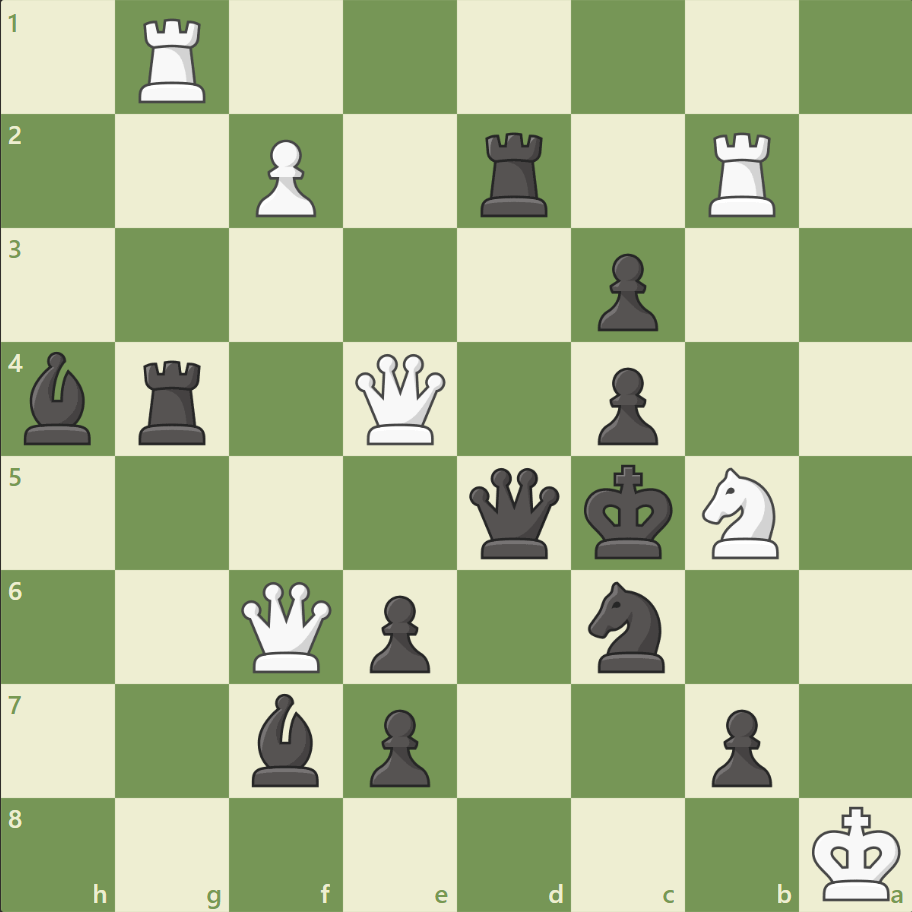K: (806, 798, 906, 906)
N: (692, 461, 789, 564)
P: (247, 132, 322, 223)
Q: (237, 576, 336, 676), (351, 349, 450, 449)
R: (700, 125, 783, 222), (133, 12, 215, 109)
b: (244, 687, 328, 790), (17, 347, 101, 449)
k: (579, 458, 679, 566)
n: (579, 575, 676, 677)
p: (701, 700, 776, 791), (361, 700, 435, 791), (361, 586, 435, 677), (588, 359, 662, 450), (588, 246, 662, 337)
q: (464, 463, 563, 562)
r: (473, 125, 556, 222), (133, 352, 215, 449)
